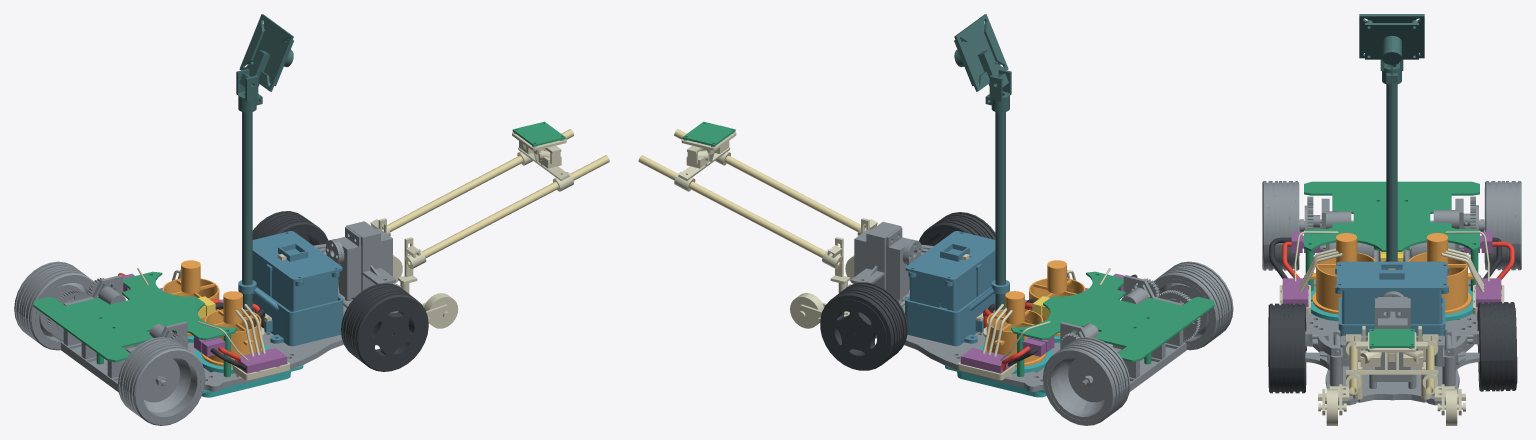
Rendered from vehicle.glb.
3 views of the same model, side by side, from view 1: azimuth 30°, elevation 25°; view 2: azimuth 150°, elevation 25°; view 3: azimuth 270°, elevation 25° (orthographic). The views are drawn at different scales.
Parts seen in each view (by area): view 1: vehicle, front_wheel_right, front_wheel_left; view 2: vehicle, front_wheel_left, front_wheel_right; view 3: vehicle, front_wheel_left, front_wheel_right.
Part boxes in pixels (<box>): vehicle: <box>14,14,609,425</box>; front_wheel_right: <box>341,283,428,371</box>; front_wheel_left: <box>252,211,328,245</box>; vehicle: <box>638,14,1233,425</box>; front_wheel_left: <box>820,282,907,370</box>; front_wheel_right: <box>919,212,995,245</box>; vehicle: <box>1262,14,1521,425</box>; front_wheel_left: <box>1477,302,1517,391</box>; front_wheel_right: <box>1268,303,1306,393</box>.
Size of the model in its own units: 0.4555 by 0.267 by 0.1827.
